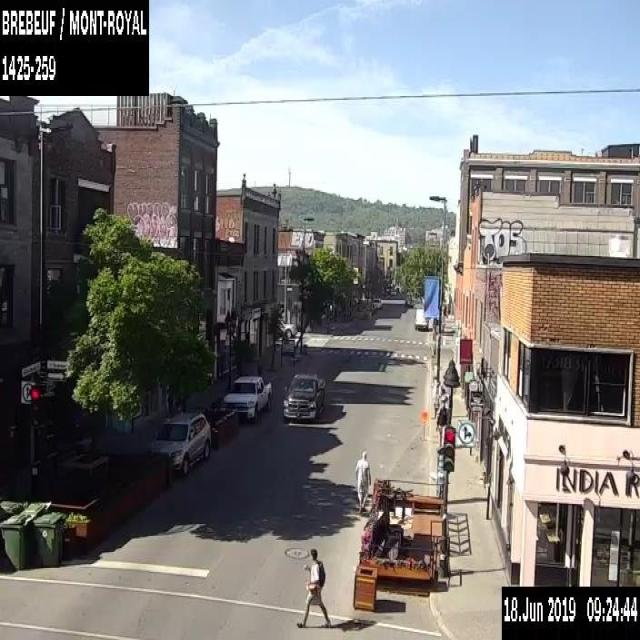construction: (420, 409, 427, 439)
pedestrian: (296, 548, 329, 627), (355, 450, 370, 510), (436, 400, 446, 447)
vehicle: (144, 409, 211, 476), (223, 374, 272, 422), (280, 371, 327, 420), (276, 312, 296, 338), (413, 307, 428, 329)
